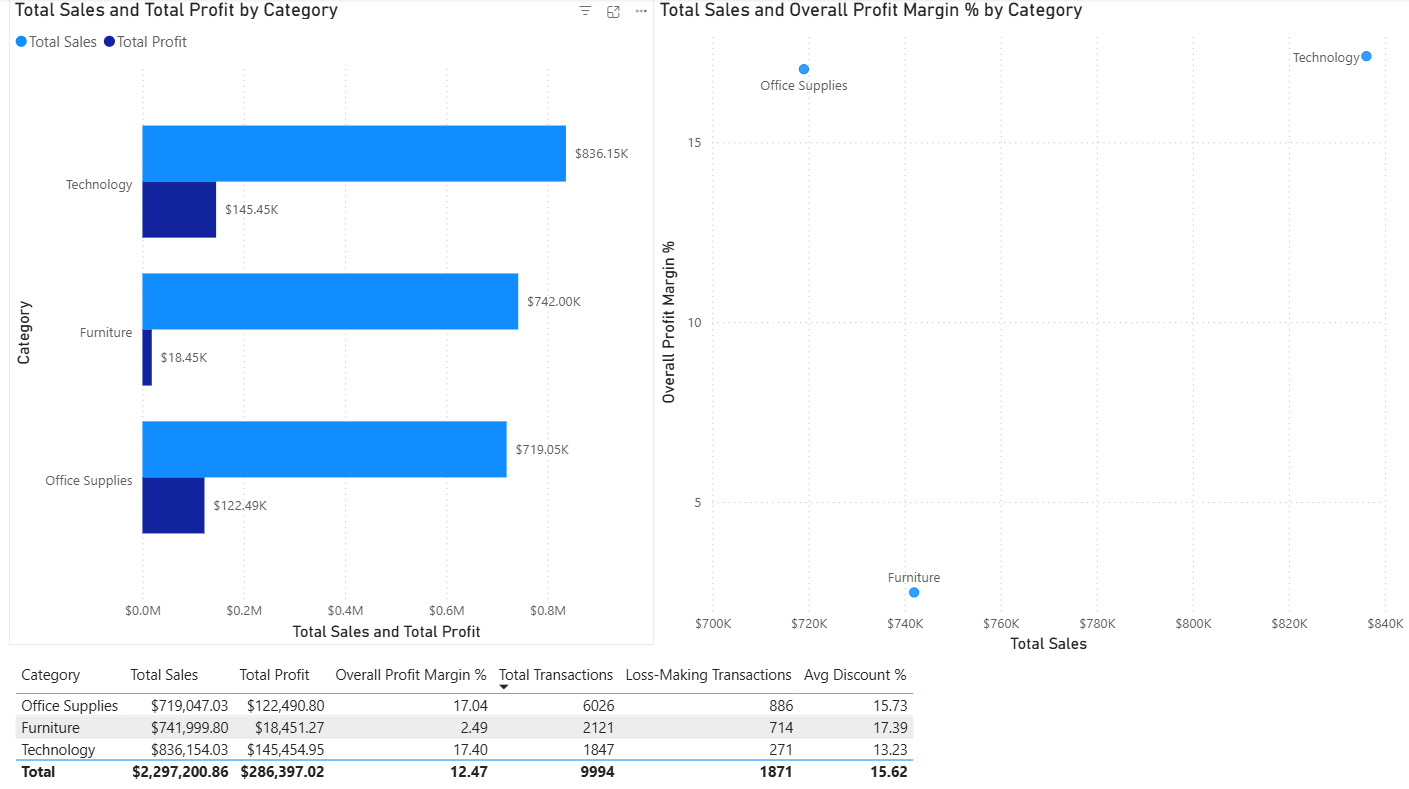

The page's visual inventory and layout, read from the dashboard file:
{"tool":"powerbi","page":{"name":"Page 2","canvas":[1280,720],"ordinal":1},"visuals":[{"type":"clusteredBarChart","fields":{"Category":["Transformed Data.Category"],"Y":["Transformed Data.Total Sales","Transformed Data.Total Profit"]},"box":[9.7,0,585.5,586.5],"z":0},{"type":"scatterChart","fields":{"X":["Transformed Data.Total Sales"],"Category":["Transformed Data.Category"],"Y":["Transformed Data.Overall Profit Margin %"]},"box":[595.3,0,684.7,598.2],"z":1000},{"type":"tableEx","fields":{"Values":["Transformed Data.Category","Transformed Data.Total Sales","Transformed Data.Total Profit","Transformed Data.Overall Profit Margin %","Transformed Data.Product ID","Transformed Data.Loss-Making Transactions","Transformed Data.Avg Discount %"]},"box":[9.7,598.2,1270.3,121.6],"z":2000}]}

Visuals, with their boxes in screenshot pixels (x1, y1, x2, y2), scaled from the page's 1280x720 canvas onto the 1409x789 screenshot:
clusteredBarChart - Transformed Data.Category x Transformed Data.Total Sales: crop(11, 0, 655, 643)
scatterChart - Transformed Data.Total Sales x Transformed Data.Category: crop(655, 0, 1408, 656)
tableEx - Transformed Data.Category x Transformed Data.Total Sales: crop(11, 656, 1408, 788)
